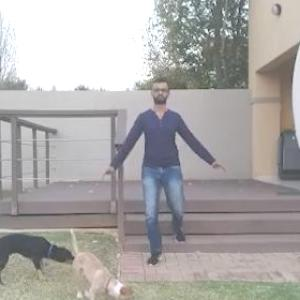land: (119, 85, 207, 248)
